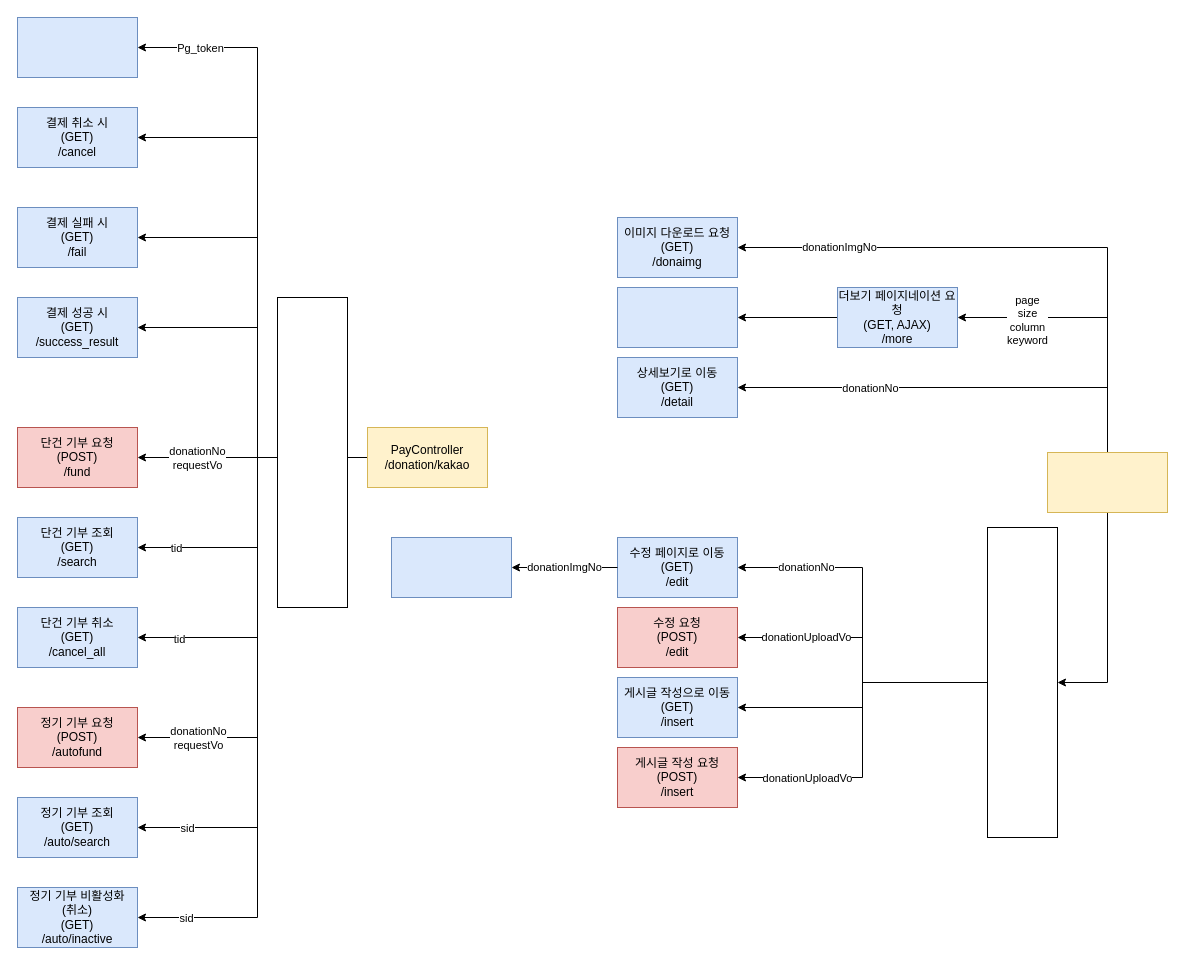
This 1185x965 diagram has some shape labels left out. The shapes that lost their labels are listed below. From the top down, each one's box as (x1, y1, x2, y2) in pixels, then its label:
(16, 16, 138, 78): 단건or정기결제 요청 성공 시 (GET) /success
(616, 286, 738, 348): 목록으로 이동 (GET) / /list
(276, 296, 348, 608): Login Interceptor (회원만 접근 가능)
(1046, 452, 1168, 512): DonationController /donation
(390, 536, 512, 598): 파일 삭제 요청 (GET, AJAX) /file/delete
(986, 526, 1058, 838): Grade Interceptor (회원만 접근 가능)
